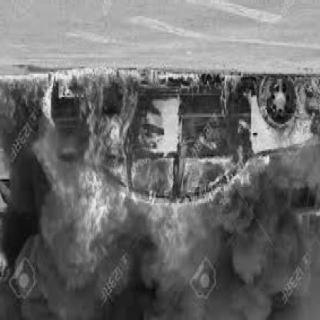Fire: (3, 61, 319, 285)
